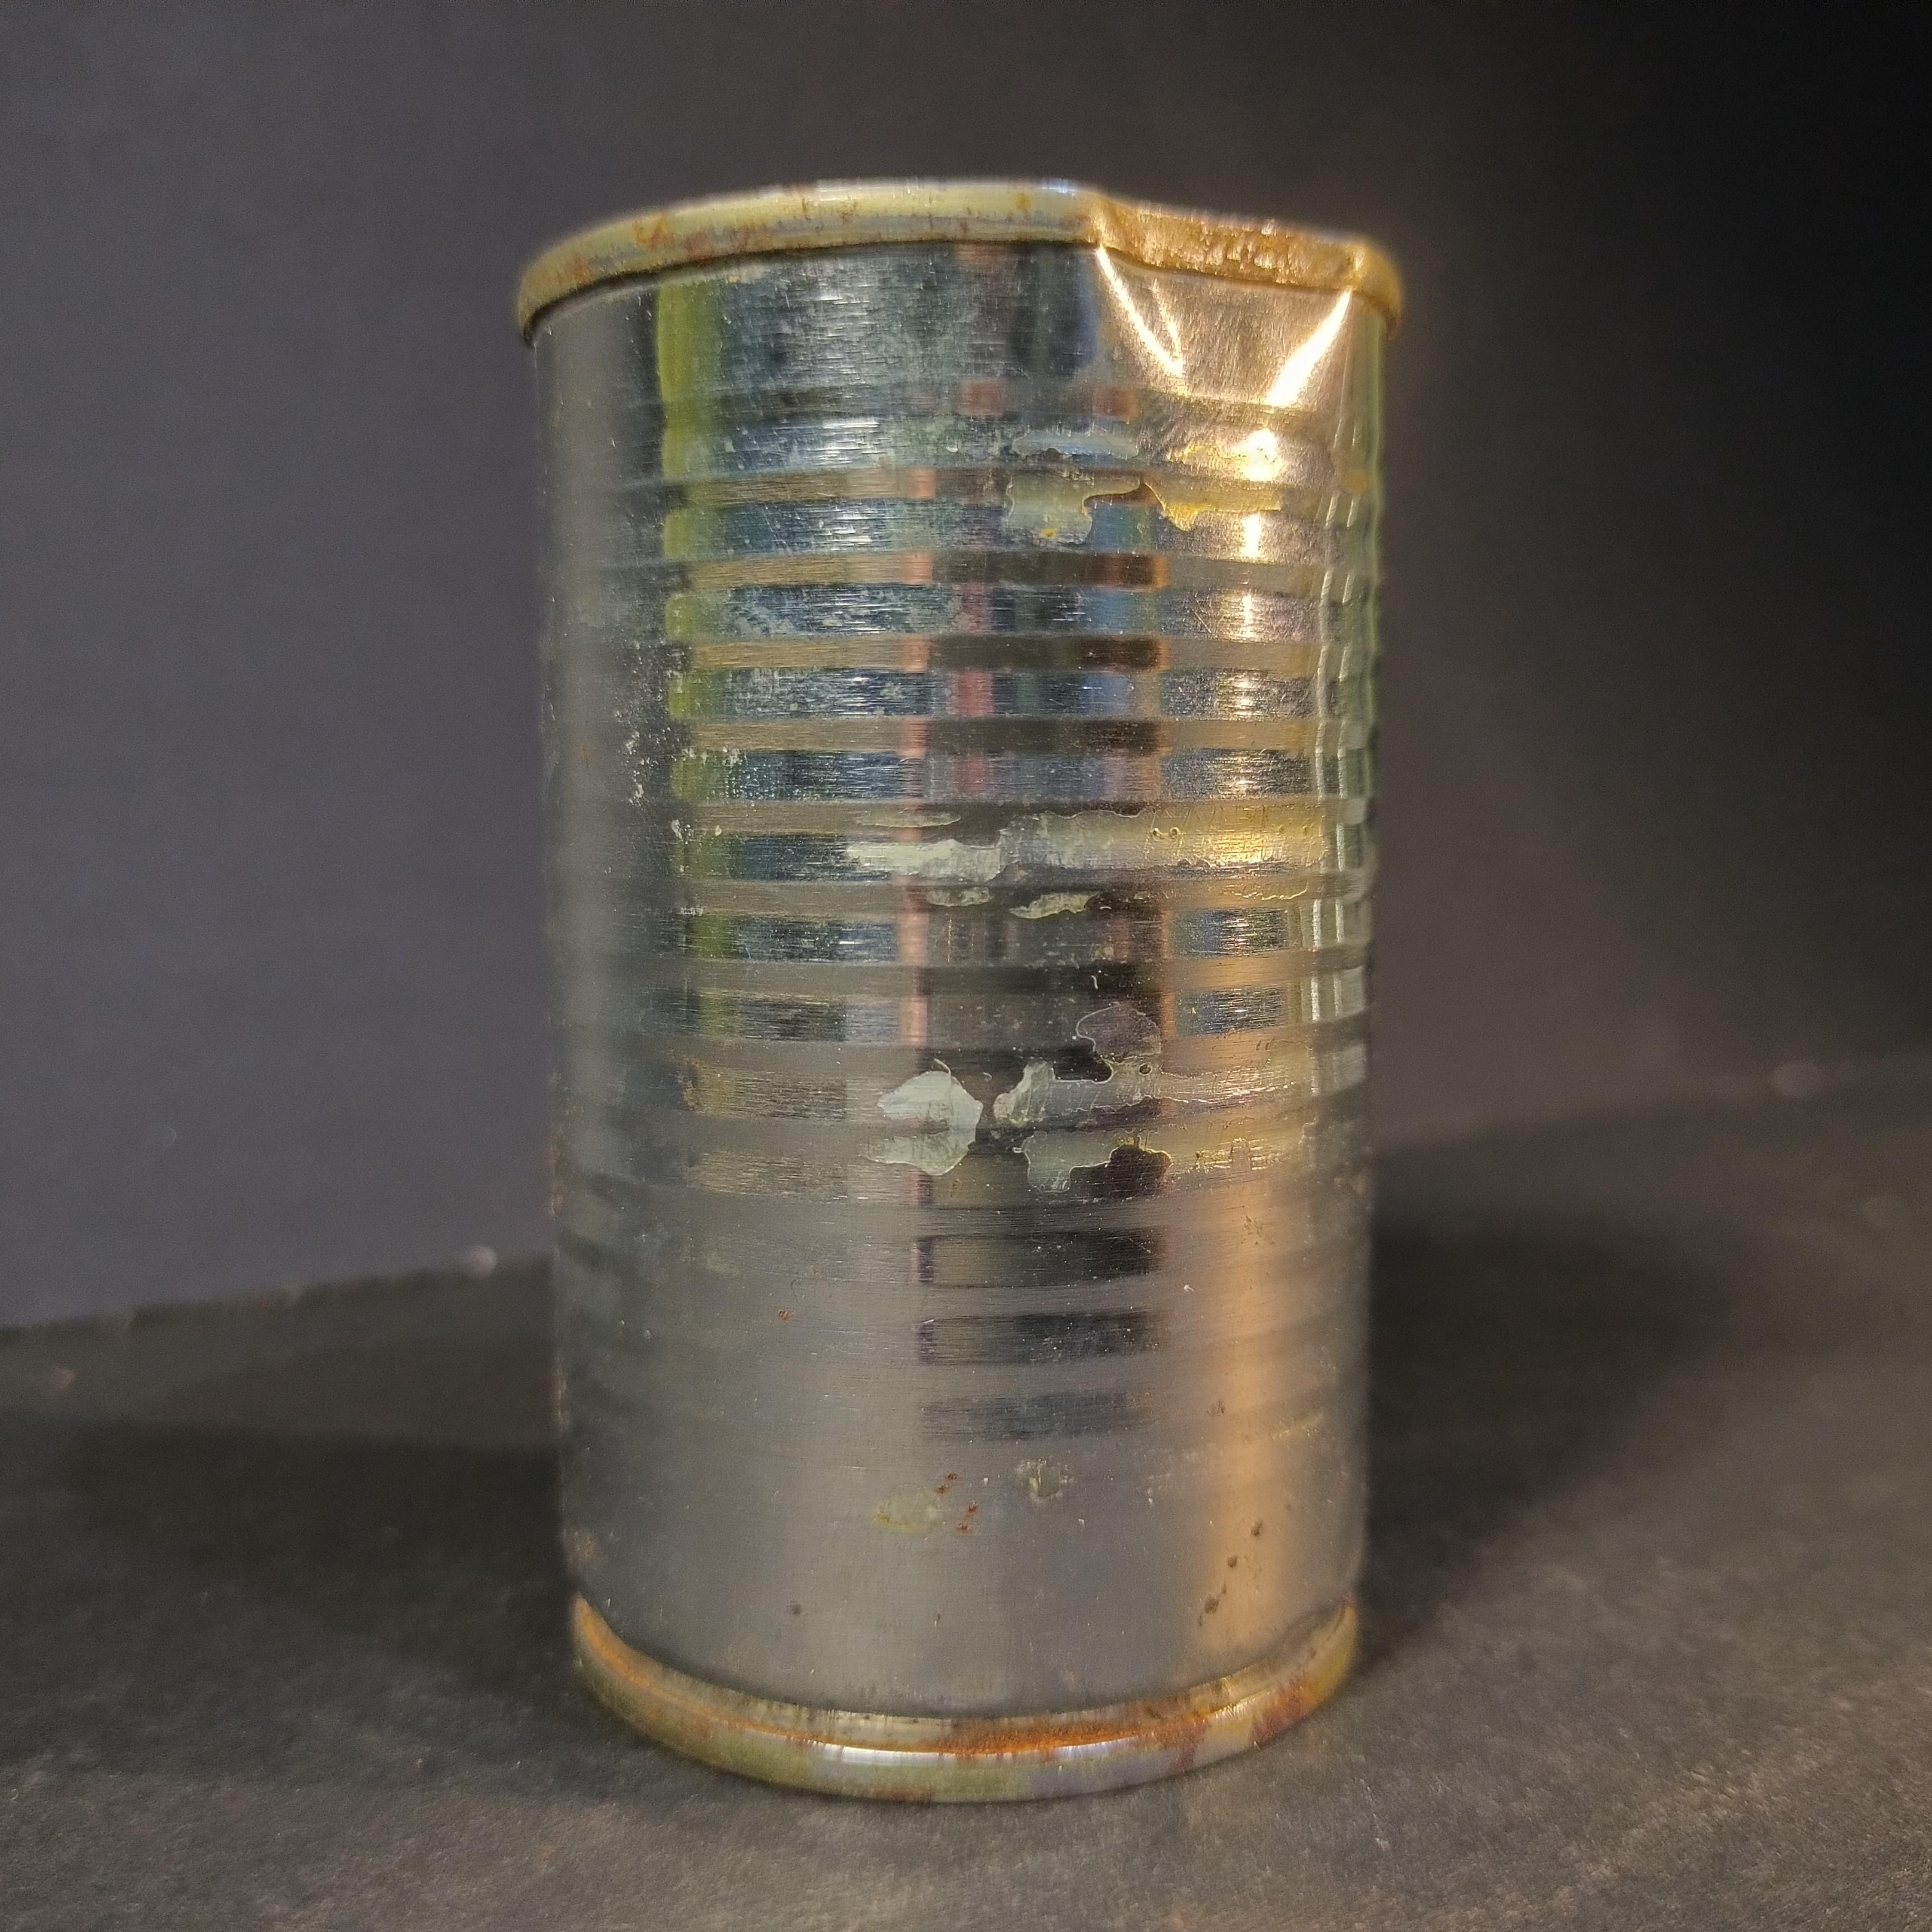Dented: (490, 152, 1424, 1806)
